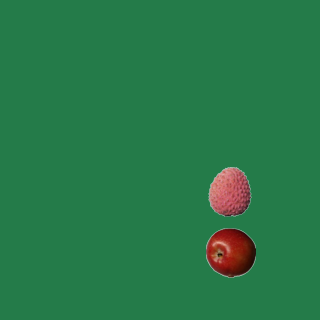Apple Braeburn: (205, 227, 255, 277)
Lychee: (204, 166, 254, 216)
